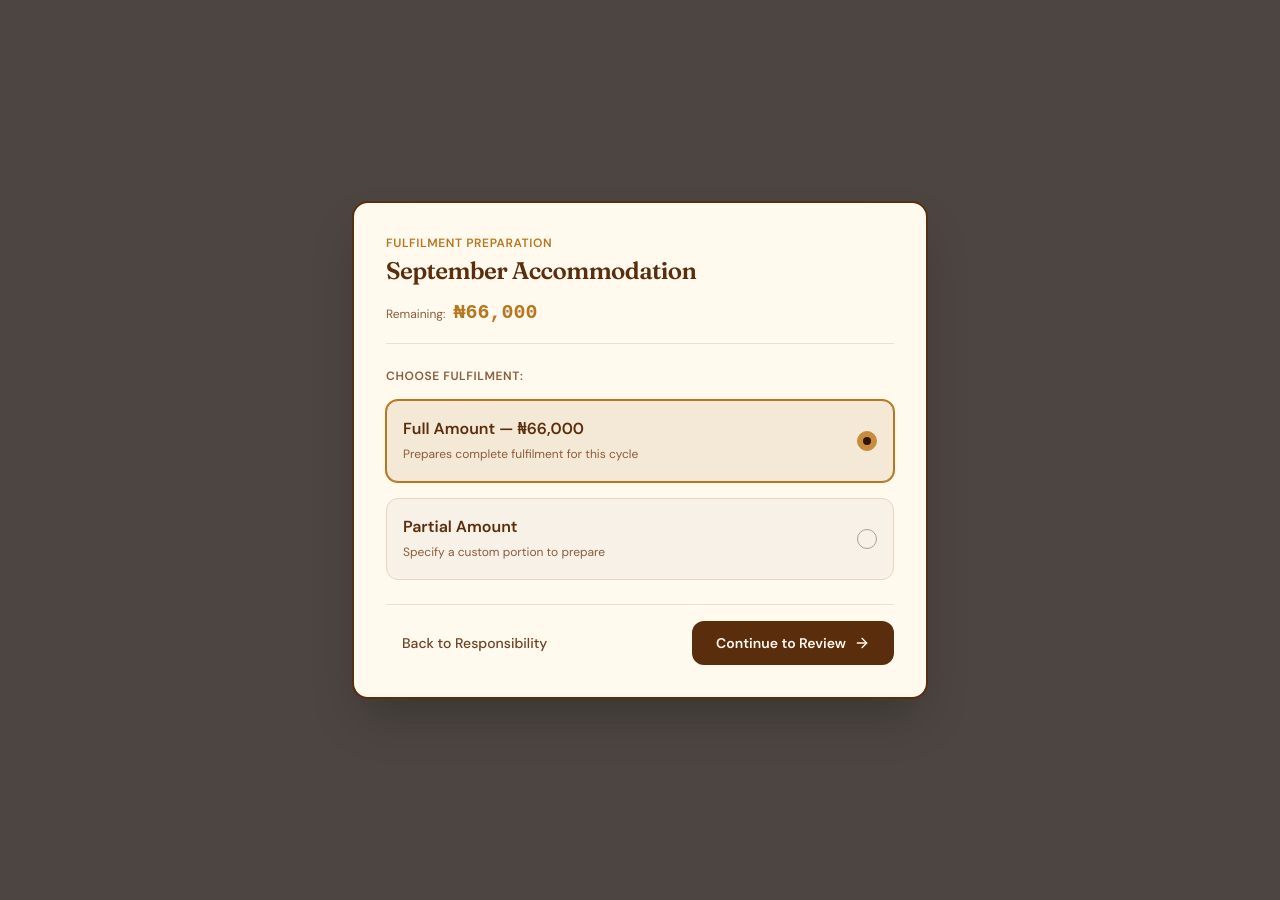
Test: H4D-FUNC-004: Accommodation Fulfilment Intent Preparation › 2. accepts a valid partial amount and displays in review step
// Select Partial Amount
Click the text "Partial Amount". click: point(460, 526)
box: [403,516,518,537]
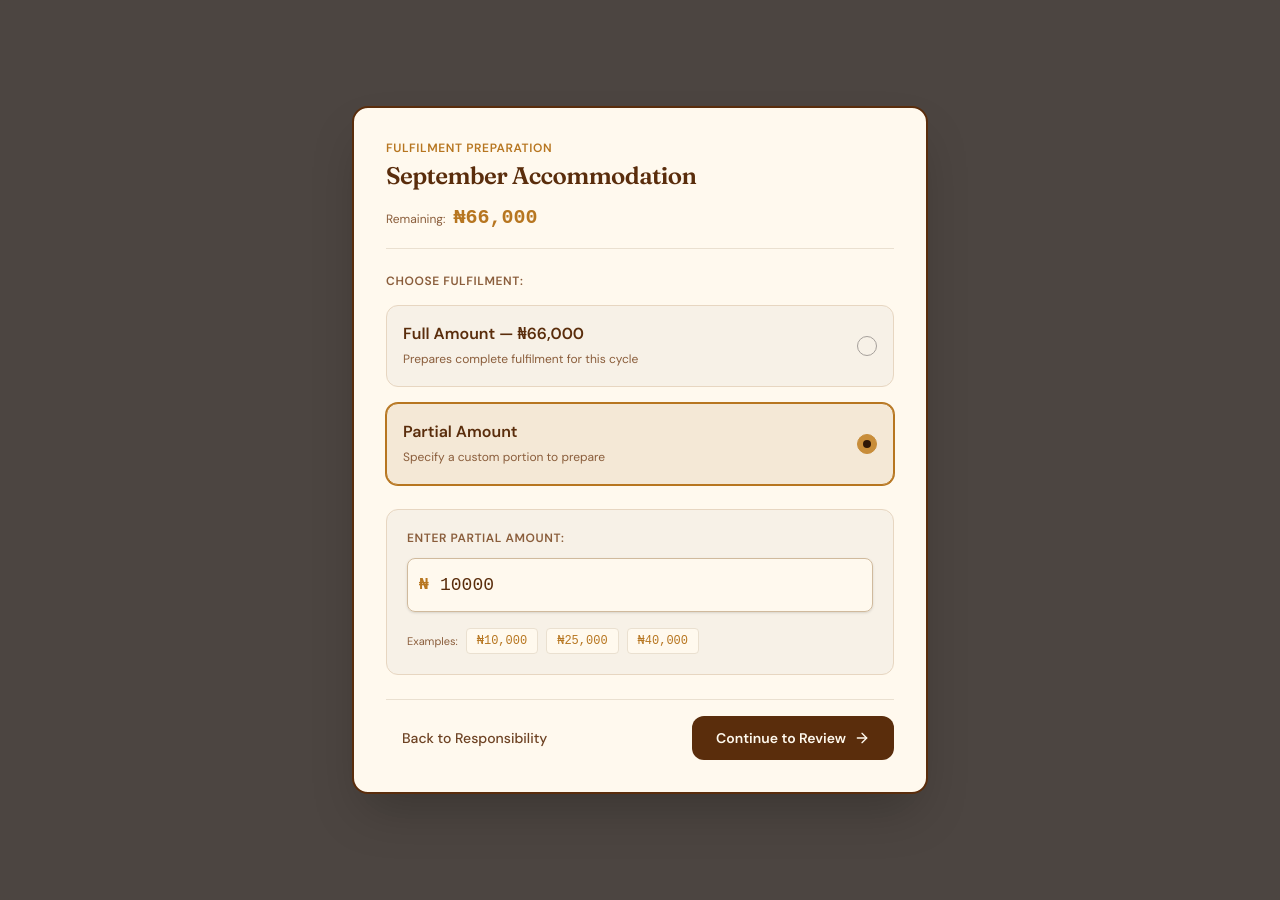
// Input 25000
Replace the text in the field labelled "Partial Amount" with "25000". click: point(640, 585)
box: [407,558,873,612]
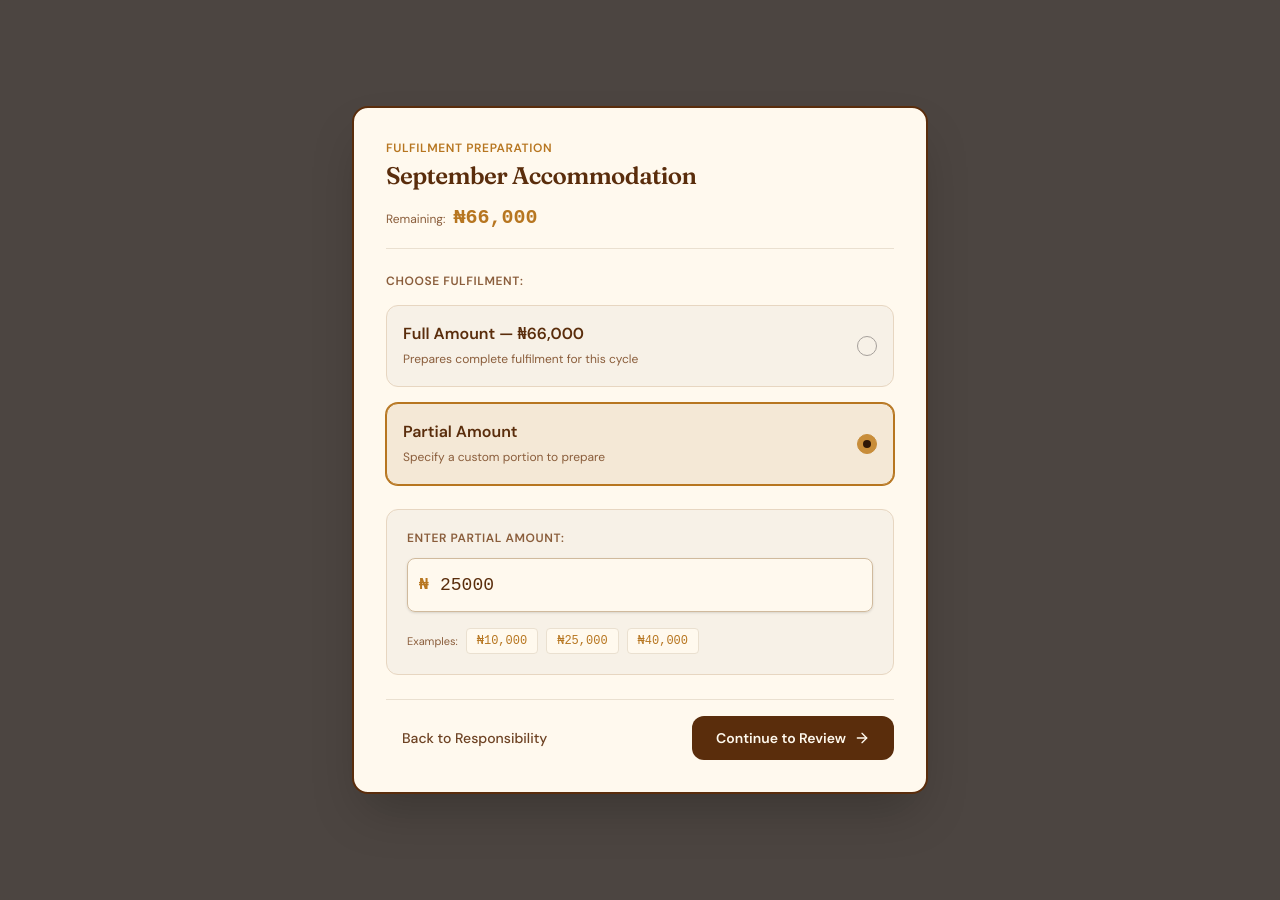
// Proceed to review
Click the button "Continue to Review". click: point(793, 738)
box: [692,716,894,760]
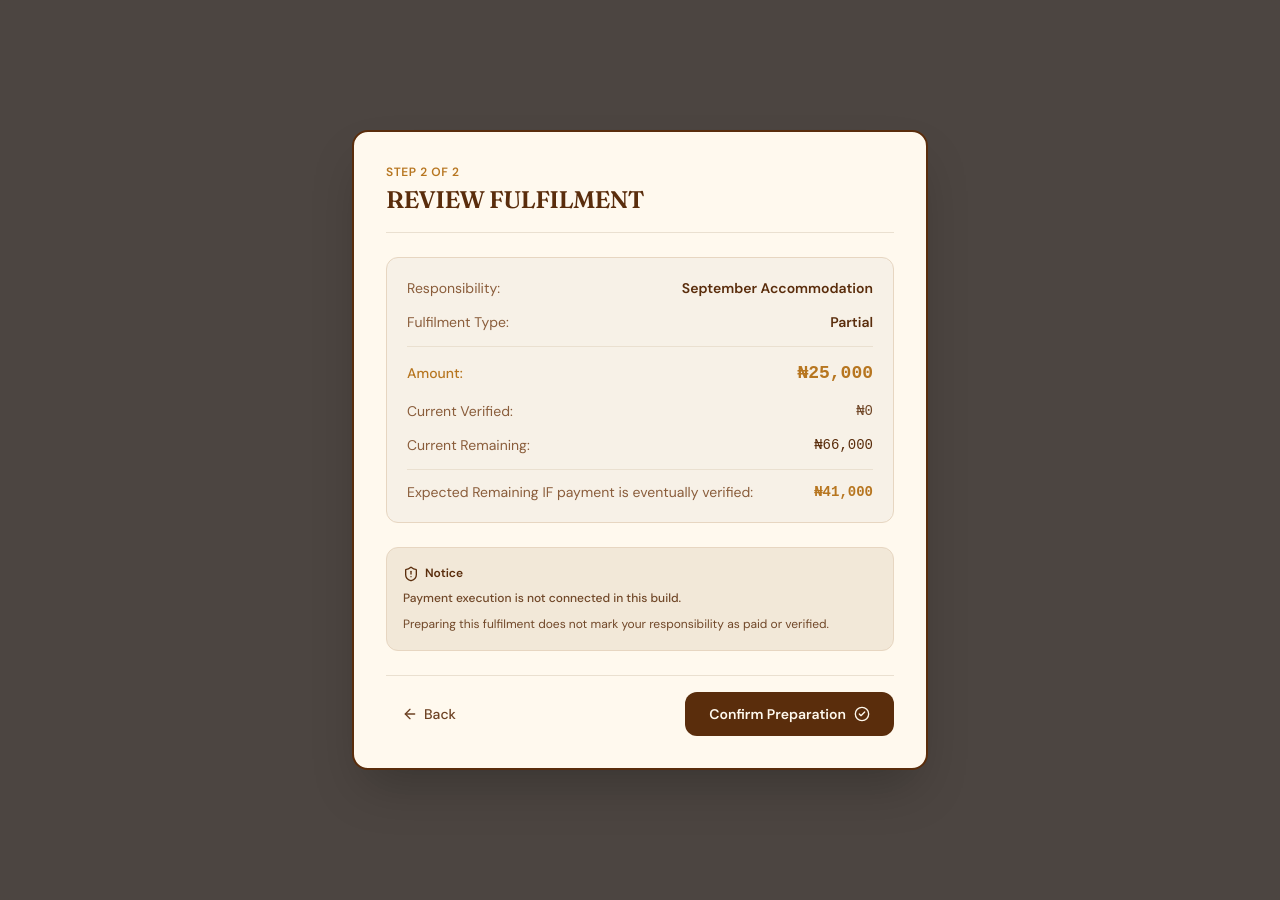
Expected: the text "₦25,000" is shown, [797,359,873,387]
Expected: the heading "REVIEW FULFILMENT" is shown, [386,185,644,214]
Expected: the text "Expected Remaining IF payment is eventually verified:" is shown, [407,482,753,502]
